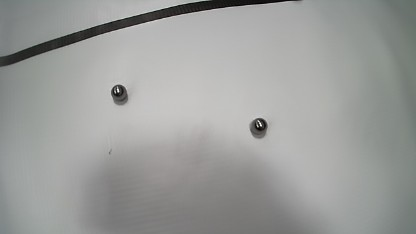ironball: (250, 117, 268, 138), (111, 84, 127, 102)
